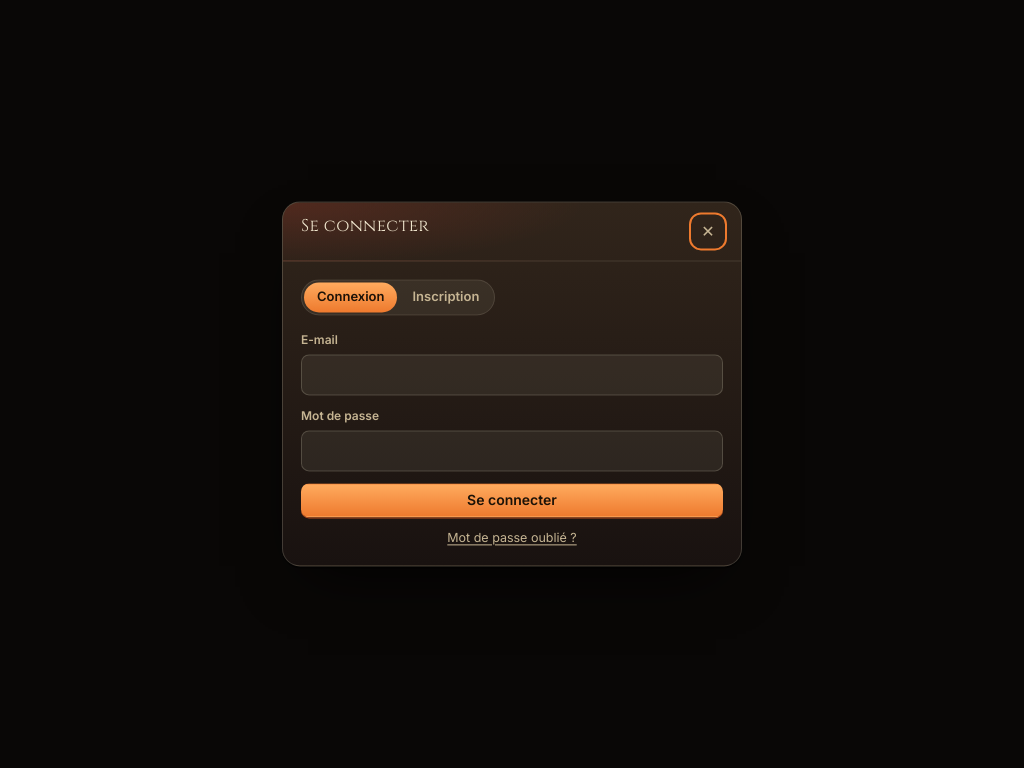
Test: AuthDialog › affiche l'erreur renvoyée et laisse la modale ouverte
The image size is (1024, 768).
Type "a@b.c" into the field labelled "E-mail".
click(512, 374); type("a@b.c")  # box left=301, top=354, right=723, bottom=395
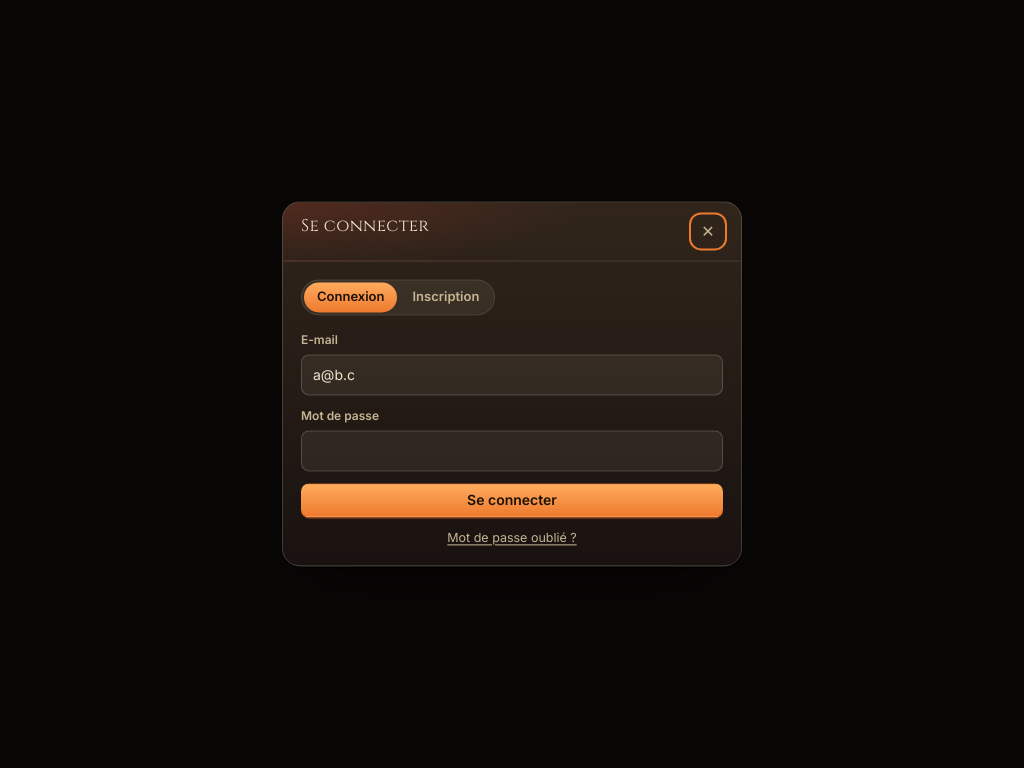
Type "secret1" into the password field labelled "Mot de passe".
click(512, 450); type("secret1")  # box left=301, top=430, right=723, bottom=471
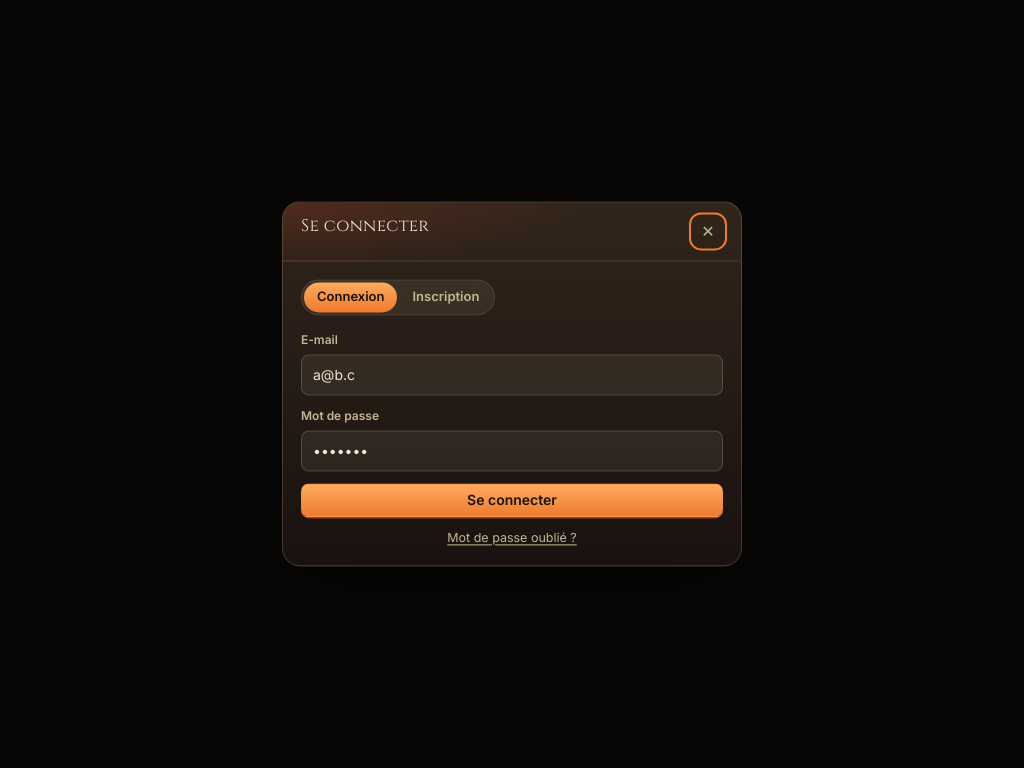
Click the button "Se connecter".
click(512, 500)  # box left=301, top=483, right=723, bottom=517
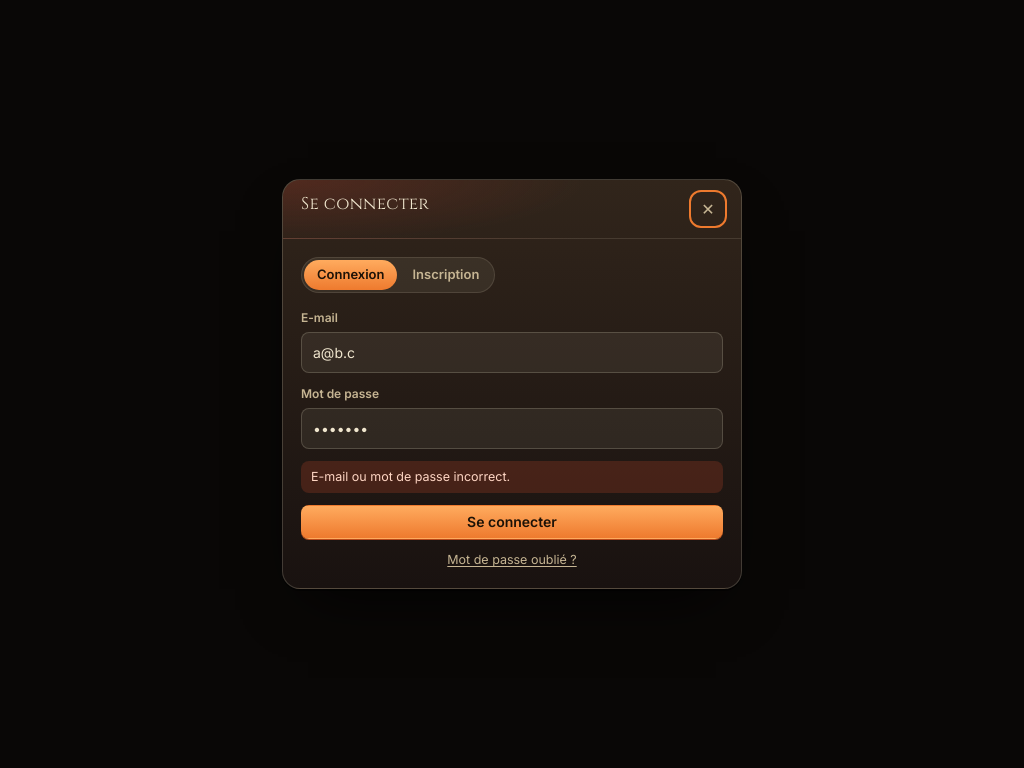
expect the message "E-mail ou mot de passe incorrect." is shown: met, box left=301, top=460, right=723, bottom=493
expect the message shows "incorrect": met, box left=311, top=468, right=510, bottom=484
